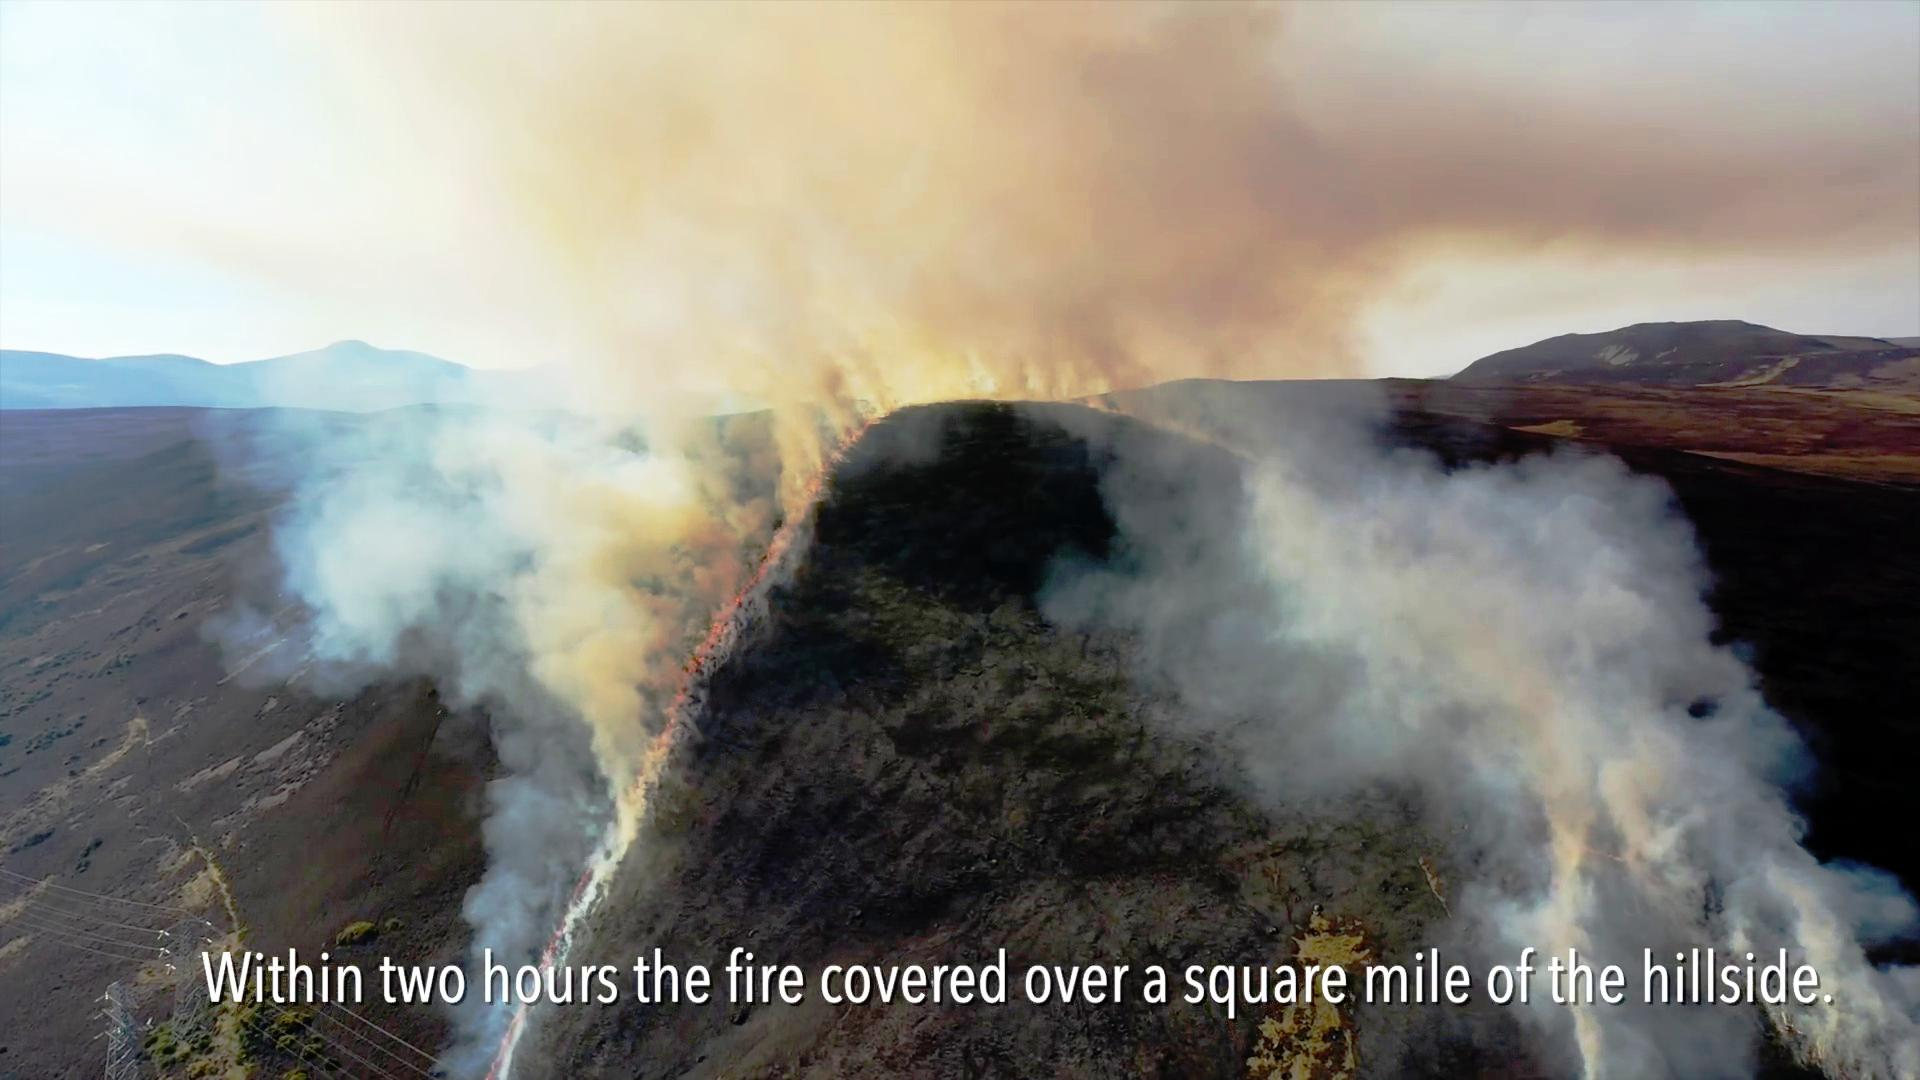smoke: (313, 4, 1920, 397), (1068, 392, 1920, 1080), (189, 371, 770, 843)
